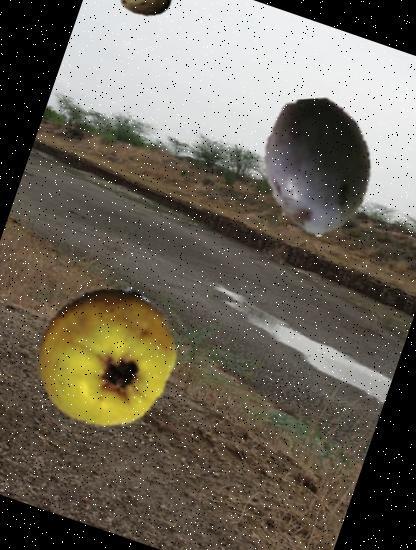Papaya: (113, 0, 179, 29)
Plum: (229, 79, 406, 256)
Quince: (13, 266, 197, 450)
